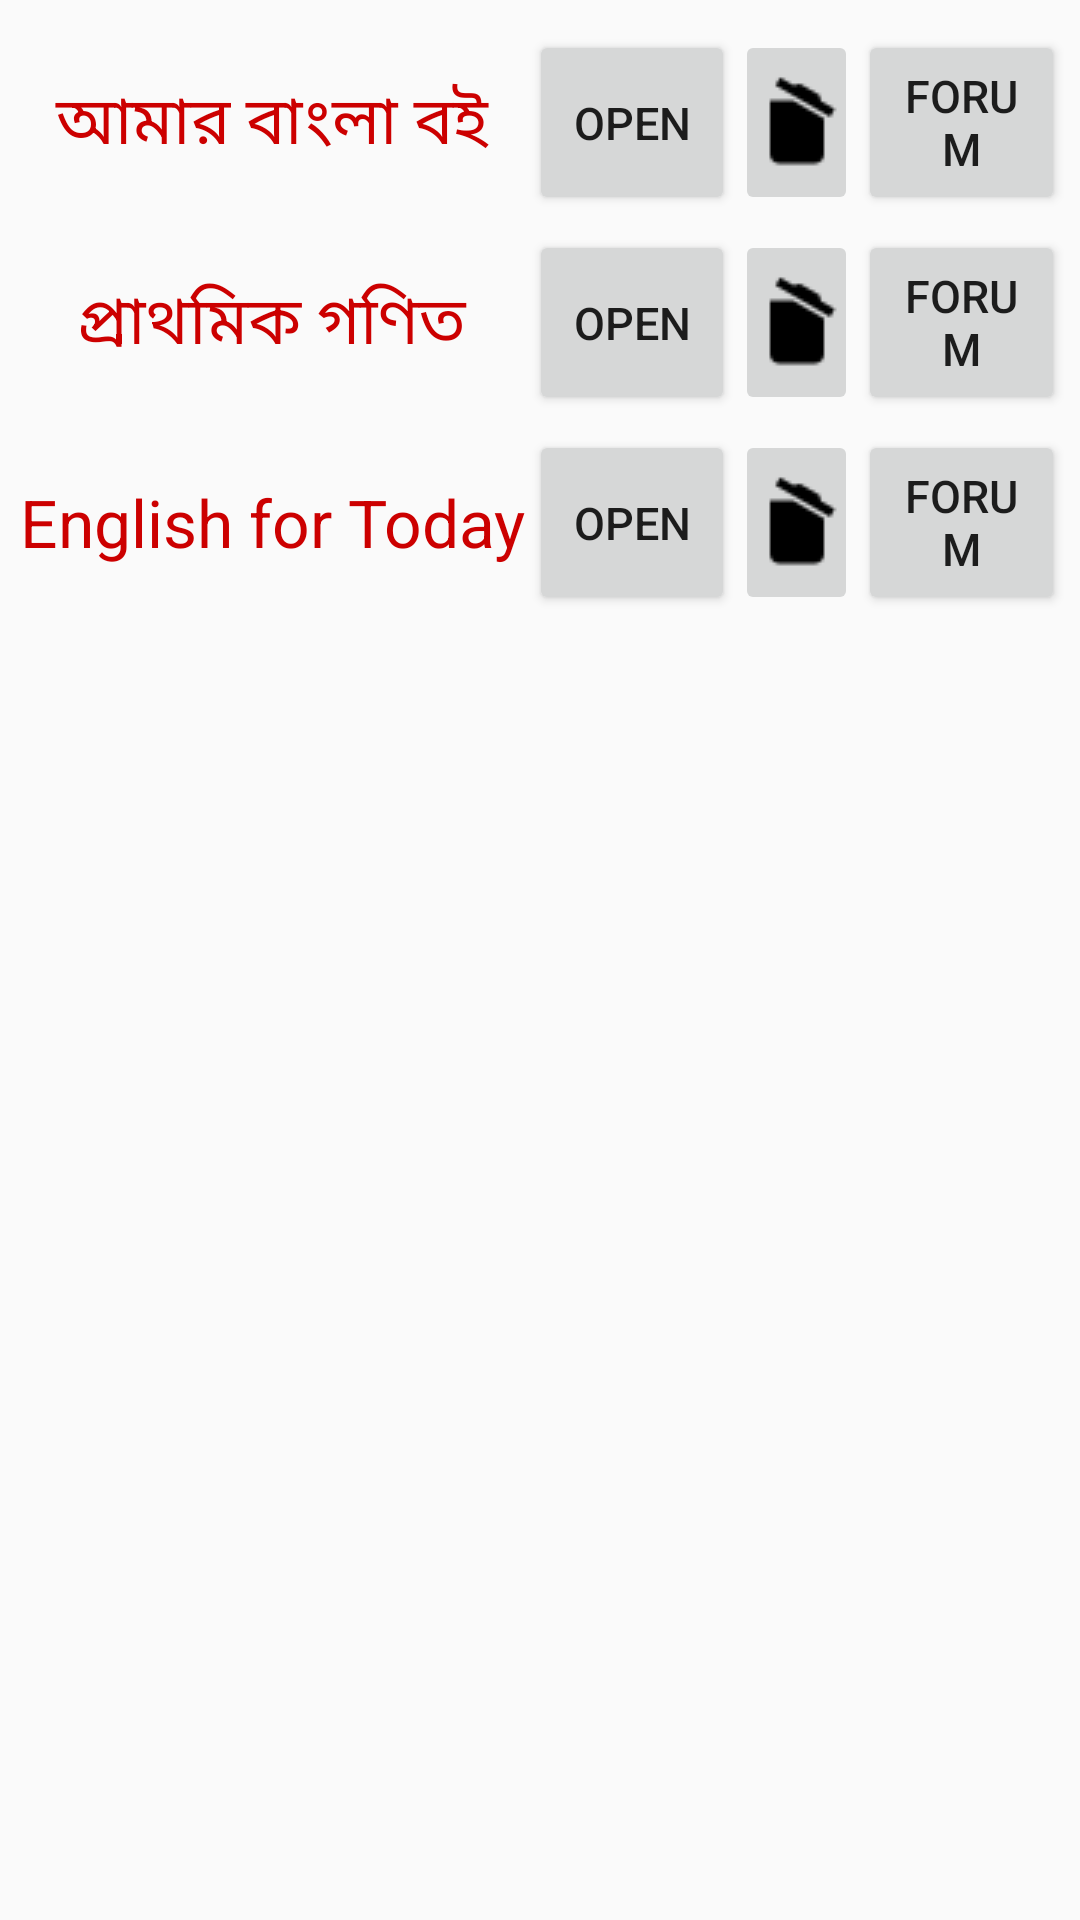

Icon click points for this 1080x1920 phone screenshot, format point (x, y):
delete: point (796, 122), point (796, 322), point (796, 522)
